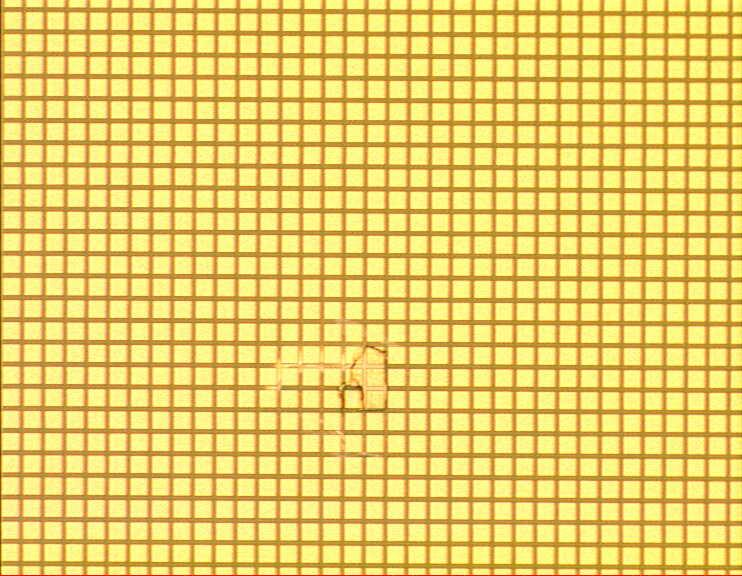BLOCK ETCH: (265, 338, 400, 418)
